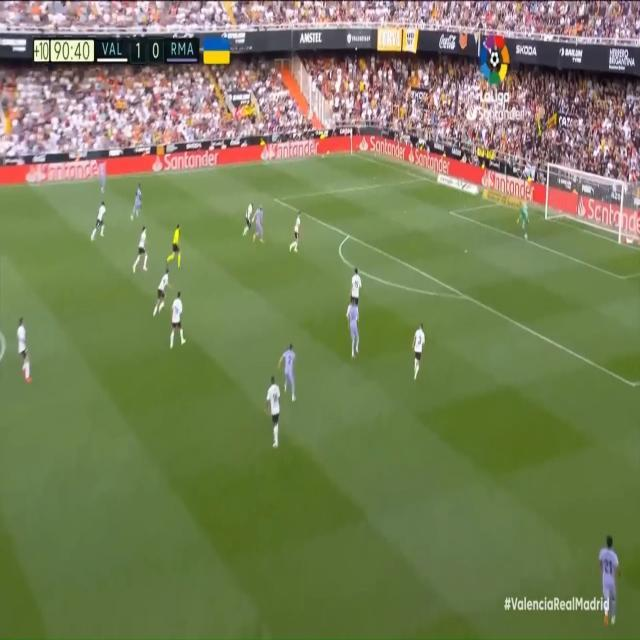goalkeeper: (514, 193, 530, 243)
player: (600, 529, 624, 633), (343, 294, 365, 366), (279, 340, 299, 403), (168, 283, 186, 352), (265, 373, 281, 450), (14, 313, 32, 381), (131, 223, 150, 283), (154, 261, 172, 323), (126, 180, 146, 232), (289, 199, 306, 255), (411, 322, 426, 381), (91, 194, 109, 241), (349, 295, 361, 359), (98, 153, 111, 206), (351, 260, 365, 309), (243, 200, 258, 242), (252, 204, 266, 246)
referee: (164, 218, 184, 268)
